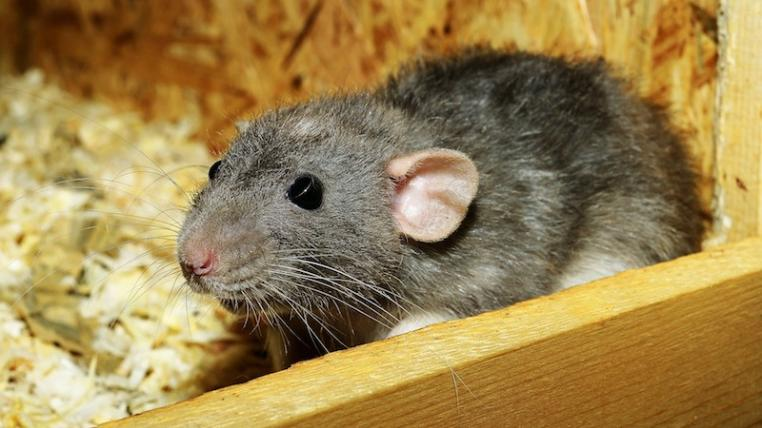rat: (163, 34, 593, 343)
